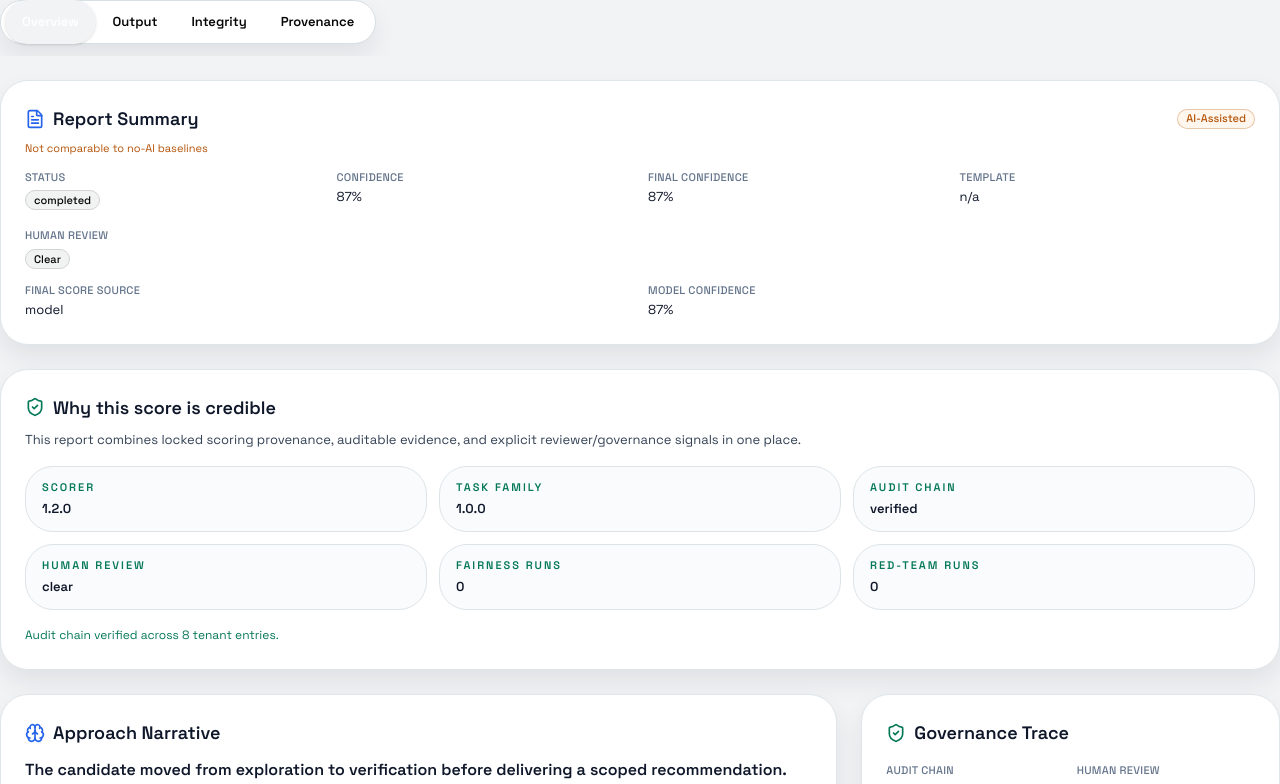
Test: ReportReviewConsole tabs › shows oral defense evidence on Output tab when transcripts are available
Click the tab "Output": coordinates (135, 22) [96,0,174,44]
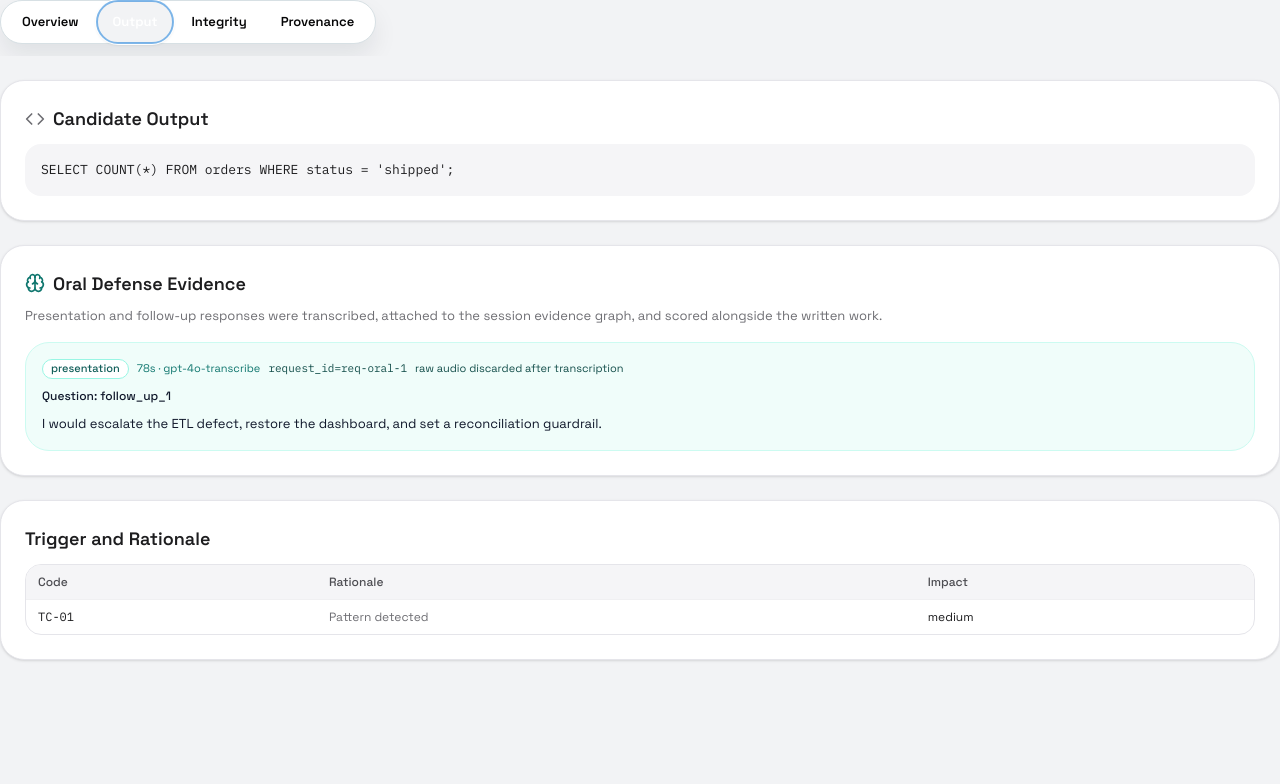
Now the heading "Oral Defense Evidence" is shown, box [53,270,246,296]
Now the text "raw audio discarded after transcription" is shown, box [415,360,624,377]
Now the text "request_id=req-oral-1" is shown, box [268,360,407,377]
